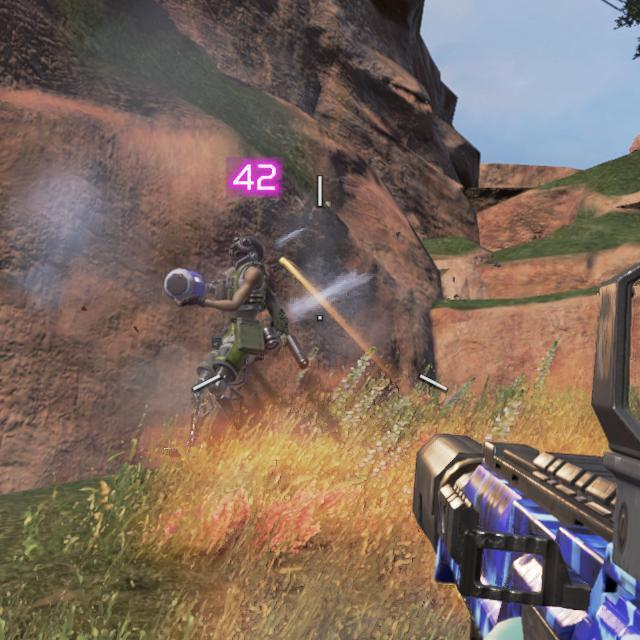avatar: (167, 233, 311, 451)
